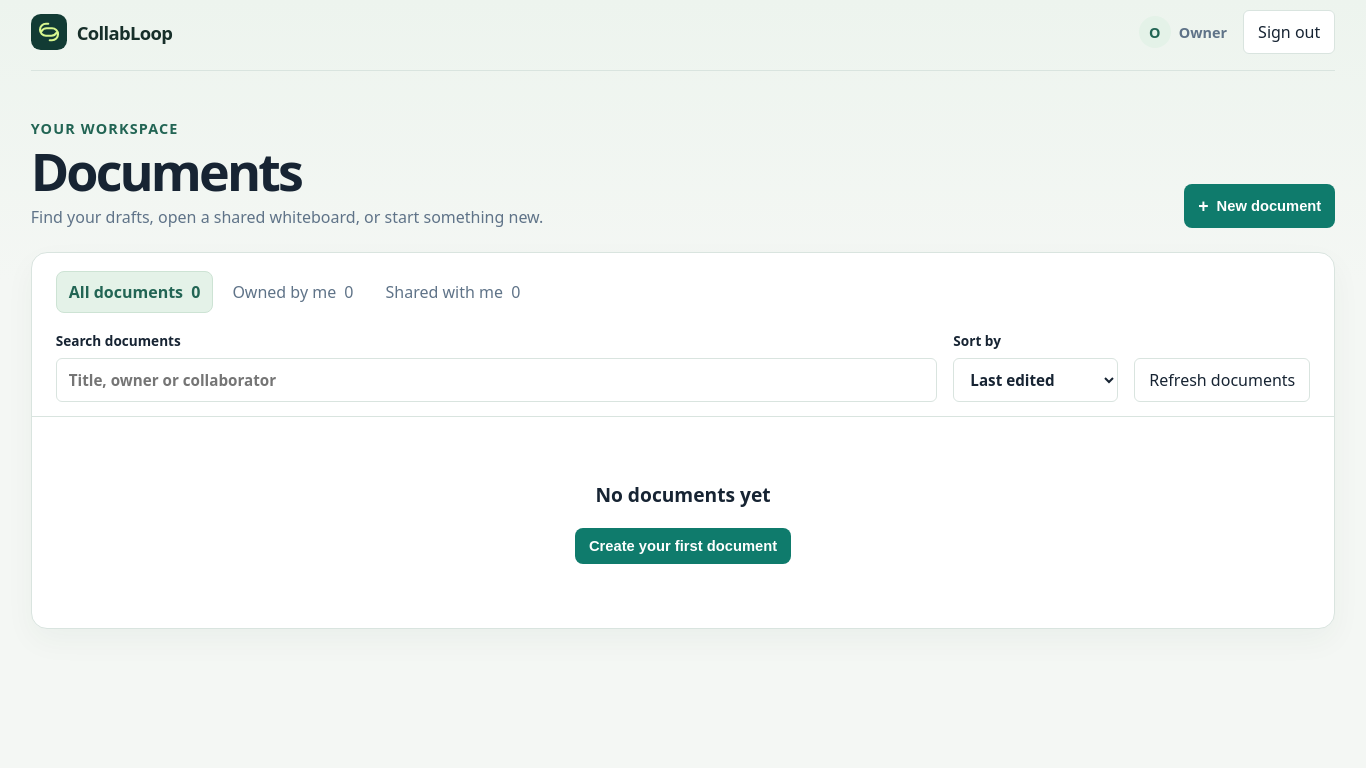
does not auto-create in an empty workspace; explicit creation opens the editor
The width and height of the screenshot is (1366, 768).
Expected: the heading "No documents yet" is shown, [595, 481, 771, 508]
Click the button "Create your first document" at point(683, 546), box [575, 528, 791, 564]
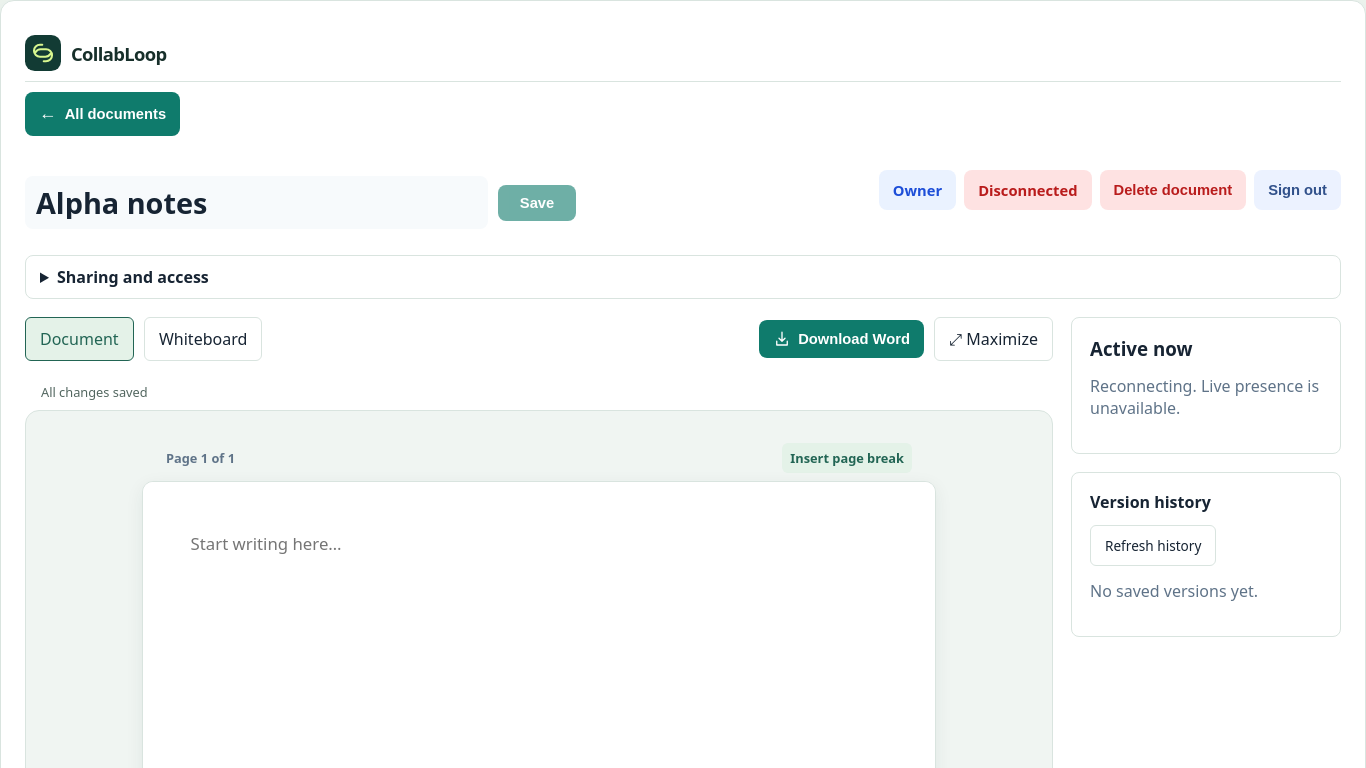
Click the button "← All documents" at point(103, 114), box [25, 92, 180, 136]
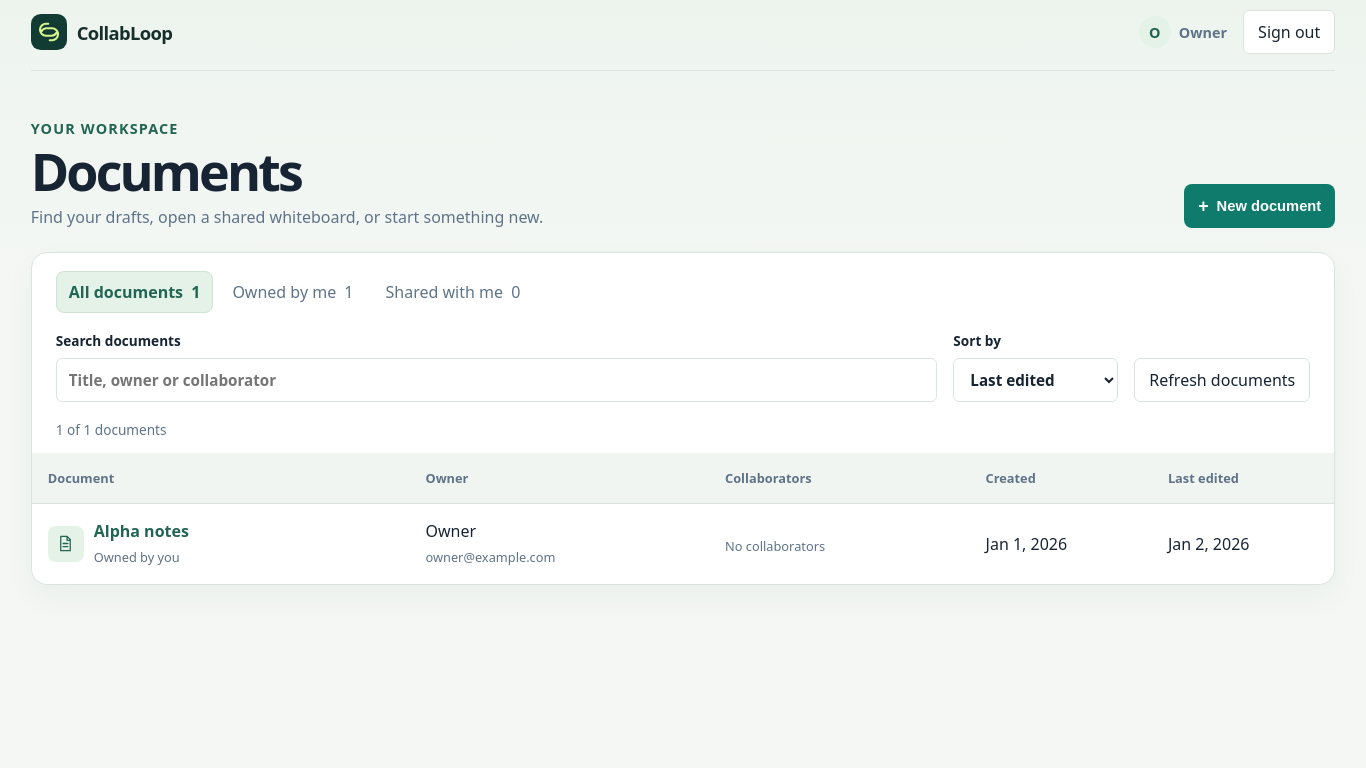
Result: the table shows "Alpha notes" at [94, 520, 189, 542]
